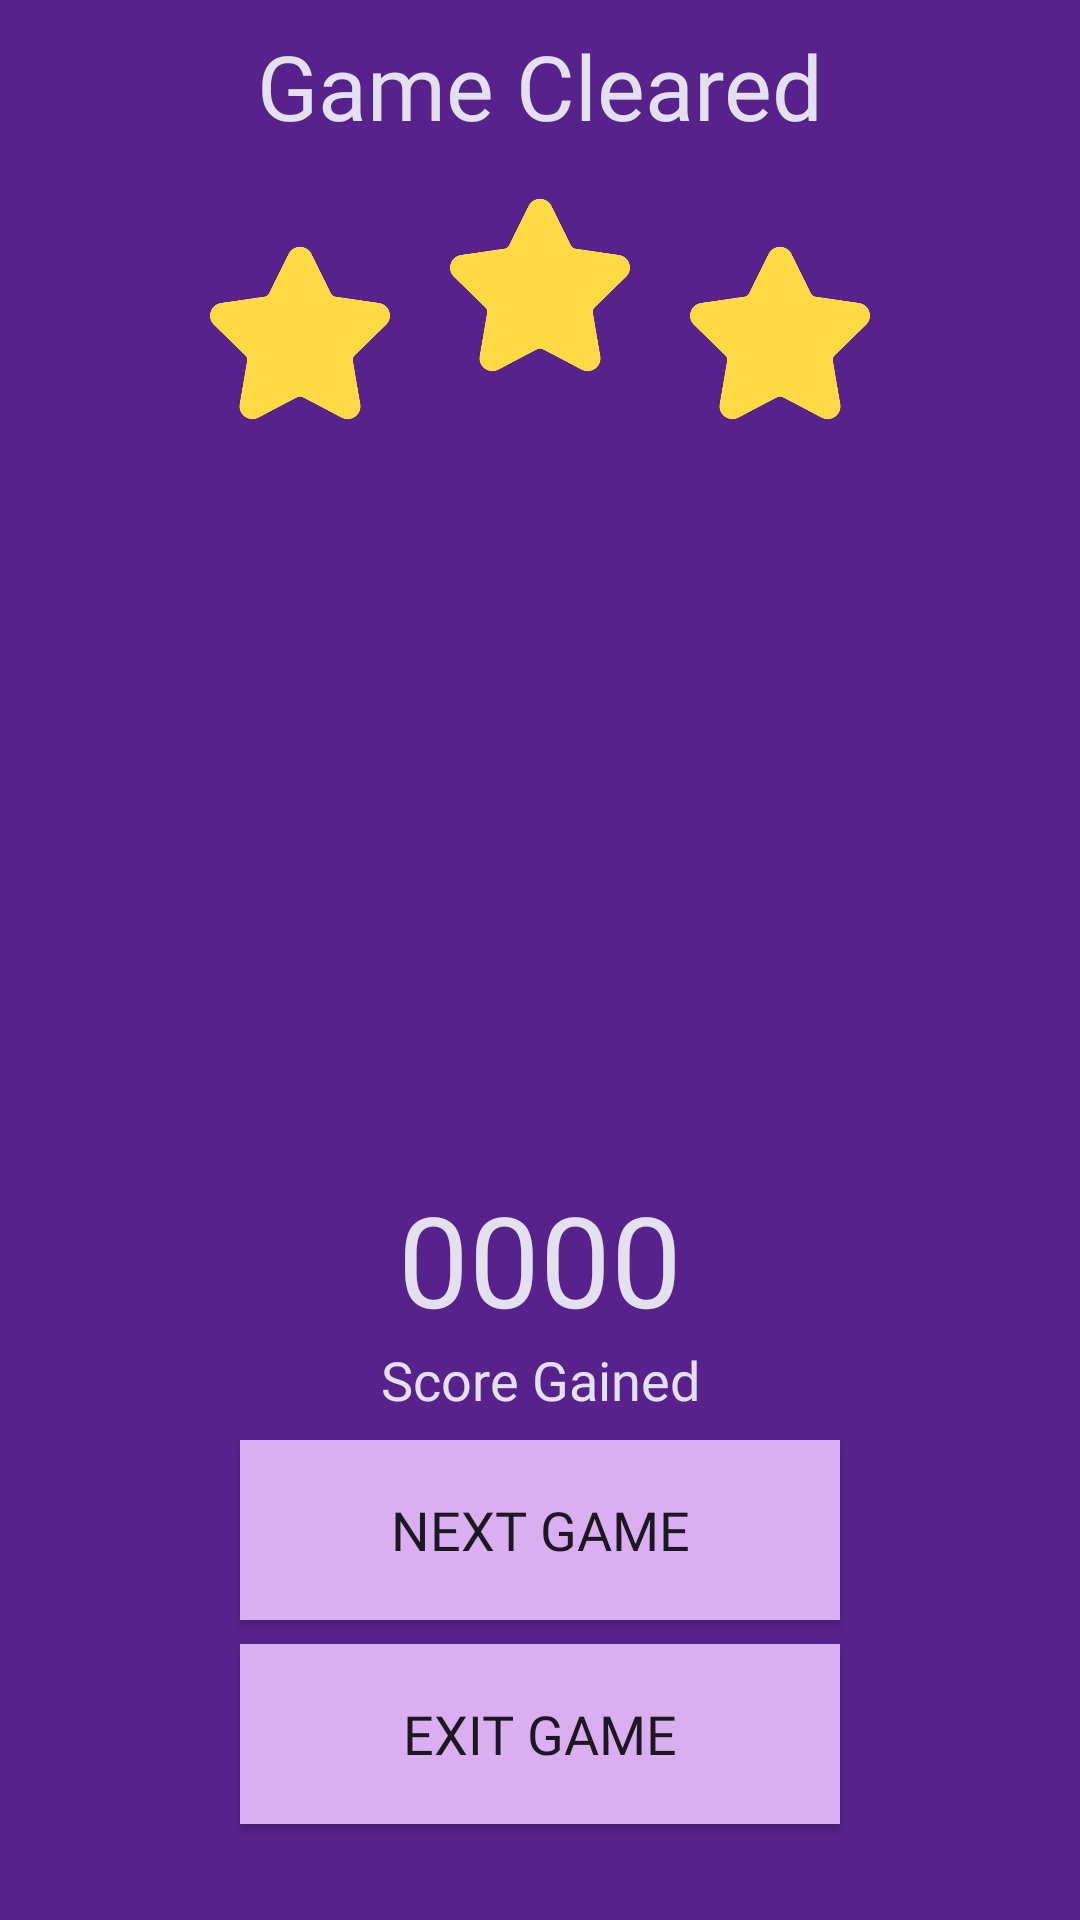

Where to tap for icons on this 1080px x 1920px app screen, as (x,y):
star: (540,285), (300,333), (780,333)
